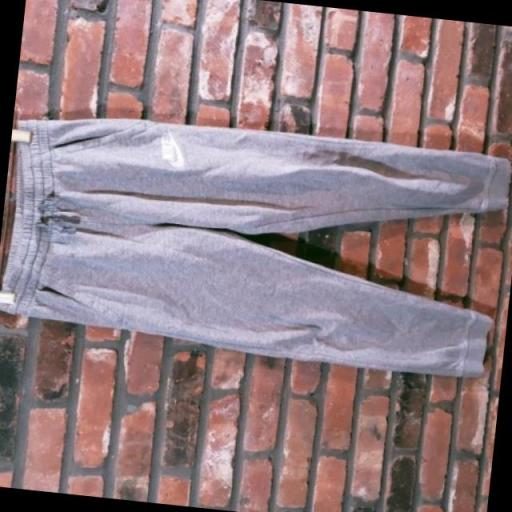Nike: (168, 128, 188, 169), (158, 136, 176, 162)
